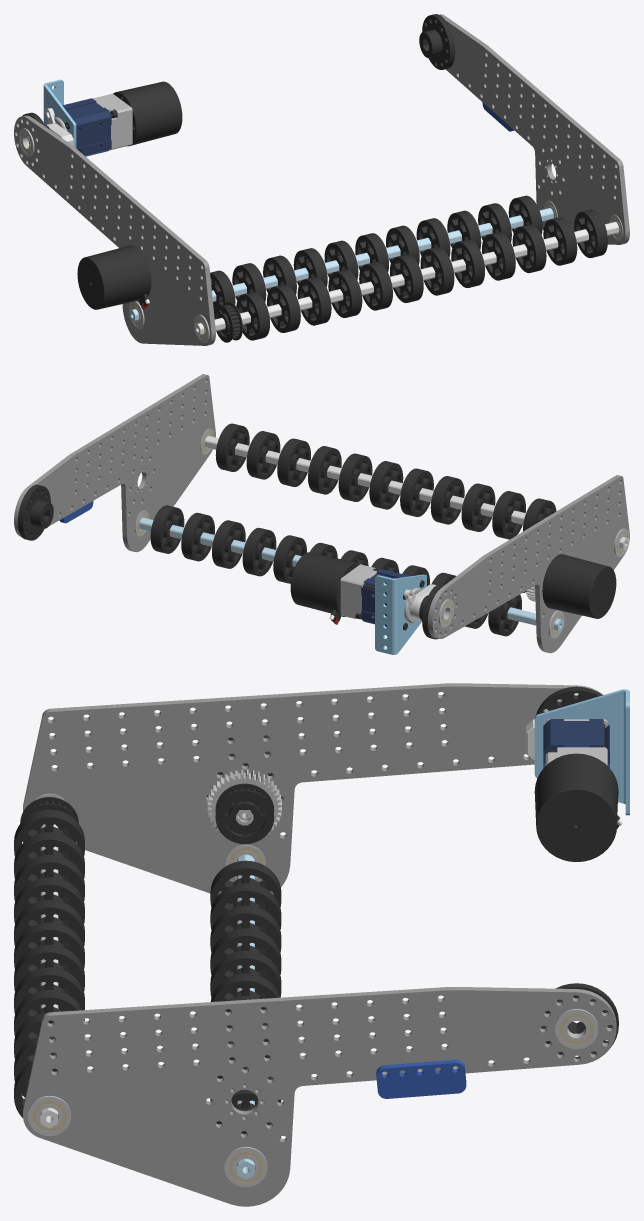
3 views of the same model, one above another, from view 1: azimuth 30°, elevation 25°; view 2: azimuth 150°, elevation 25°; view 3: azimuth 270°, elevation 25° (orthographic). The views are drawn at different scales.
Visible parts, largest first — view 1: 2" Thrifty Squish Wheel (45A, 1" Wide, 1/2" Hex Bore) (×23), Part 4, IntakePopcorn, NEO Brushless Motor V1.1 (×2), 1/2" ThunderHex (20.44 in) (×2), 1-Stage Sport Gearbox Housing, 1/2" Hex Hub (1.125" OD, #10 Clearance, 0.75" WD), Cim Sport Motor Block, am-4245a 0.5IN 57Sport Bent Side Mount Gusset, 24t Plastic Pulley End (HTD 5mm, 1/2" Hex Bore); view 2: 2" Thrifty Squish Wheel (45A, 1" Wide, 1/2" Hex Bore) (×17), IntakePopcorn, Part 4, NEO Brushless Motor V1.1 (×2), 1/2" ThunderHex (20.44 in) (×2), am-4245a 0.5IN 57Sport Bent Side Mount Gusset, 1/2" Hex Hub (1.125" OD, #10 Clearance, 0.75" WD) (×2), Cim Sport Motor Block, 1-Stage Sport Gearbox Housing, id57; view 3: IntakePopcorn, Part 4, 2" Thrifty Squish Wheel (45A, 1" Wide, 1/2" Hex Bore) (×15), NEO Brushless Motor V1.1, am-4245a 0.5IN 57Sport Bent Side Mount Gusset, 1/2" Rounded Hex (13.75mm) ID Bearing (1.125" OD, 0.313" WD, (×3), Hard Stop, 24t Plastic Pulley End (HTD 5mm, 1/2" Hex Bore), 1-Stage Sport Gearbox Housing, 1/2" Hex Hub (1.125" OD, #10 Clearance, 0.75" WD) (×2), 40t Pocketed Steel Spur Gear (20 DP, 1/2" Hex Bore).
Boxes of the visible parts, x1,y1,x2,y2 form: 2" Thrifty Squish Wheel (45A, 1" Wide, 1/2" Hex Bore) (×23): (210, 195, 607, 340); Part 4: (14, 115, 215, 345); IntakePopcorn: (439, 14, 629, 244); NEO Brushless Motor V1.1 (×2): (77, 81, 182, 309); 1/2" ThunderHex (20.44 in) (×2): (129, 208, 619, 335); 1-Stage Sport Gearbox Housing: (62, 98, 111, 156); 1/2" Hex Hub (1.125" OD, #10 Clearance, 0.75" WD): (419, 14, 455, 69); Cim Sport Motor Block: (93, 93, 132, 150); am-4245a 0.5IN 57Sport Bent Side Mount Gusset: (43, 79, 76, 148); 24t Plastic Pulley End (HTD 5mm, 1/2" Hex Bore): (214, 304, 236, 342); 2" Thrifty Squish Wheel (45A, 1" Wide, 1/2" Hex Bore) (×17): (150, 423, 556, 636); IntakePopcorn: (14, 374, 215, 552); Part 4: (428, 475, 629, 653); NEO Brushless Motor V1.1 (×2): (290, 552, 616, 624); 1/2" ThunderHex (20.44 in) (×2): (139, 435, 629, 631); am-4245a 0.5IN 57Sport Bent Side Mount Gusset: (375, 574, 426, 654); 1/2" Hex Hub (1.125" OD, #10 Clearance, 0.75" WD) (×2): (17, 484, 445, 639); Cim Sport Motor Block: (340, 564, 376, 618); 1-Stage Sport Gearbox Housing: (361, 569, 410, 627); id57: (404, 584, 436, 621); IntakePopcorn: (23, 987, 616, 1206); Part 4: (23, 683, 602, 894); 2" Thrifty Squish Wheel (45A, 1" Wide, 1/2" Hex Bore) (×15): (14, 809, 281, 1046); NEO Brushless Motor V1.1: (534, 753, 623, 861); am-4245a 0.5IN 57Sport Bent Side Mount Gusset: (534, 689, 629, 815); 1/2" Rounded Hex (13.75mm) ID Bearing (1.125" OD, 0.313" WD, (×3): (27, 1009, 598, 1187); Hard Stop: (376, 1059, 466, 1098); 24t Plastic Pulley End (HTD 5mm, 1/2" Hex Bore): (215, 790, 274, 844); 1-Stage Sport Gearbox Housing: (543, 719, 609, 767); 1/2" Hex Hub (1.125" OD, #10 Clearance, 0.75" WD) (×2): (536, 686, 618, 1058); 40t Pocketed Steel Spur Gear (20 DP, 1/2" Hex Bore): (207, 769, 281, 837).
Bounding box in the file's own units: 0.5838 × 0.185 × 0.4403.
